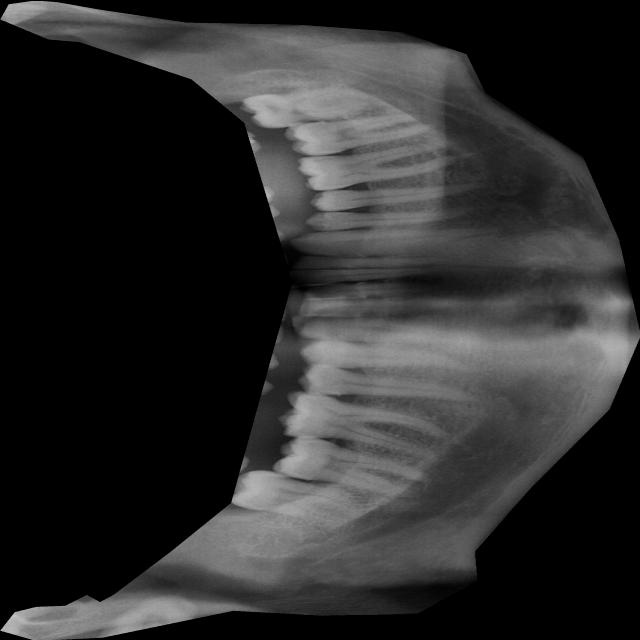mandibula: (0, 0, 640, 640)
